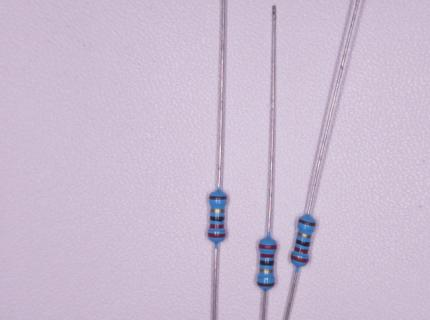Black band: (296, 239, 310, 247), (260, 260, 274, 266), (210, 216, 225, 221)
Brown band: (298, 218, 316, 227), (257, 281, 275, 287), (209, 195, 228, 200)
Gold band: (297, 231, 311, 239), (210, 208, 225, 213), (259, 268, 274, 273)
Red band: (290, 254, 309, 263), (258, 243, 277, 250), (294, 246, 309, 254), (208, 232, 226, 238), (209, 224, 225, 229), (260, 253, 275, 258)
